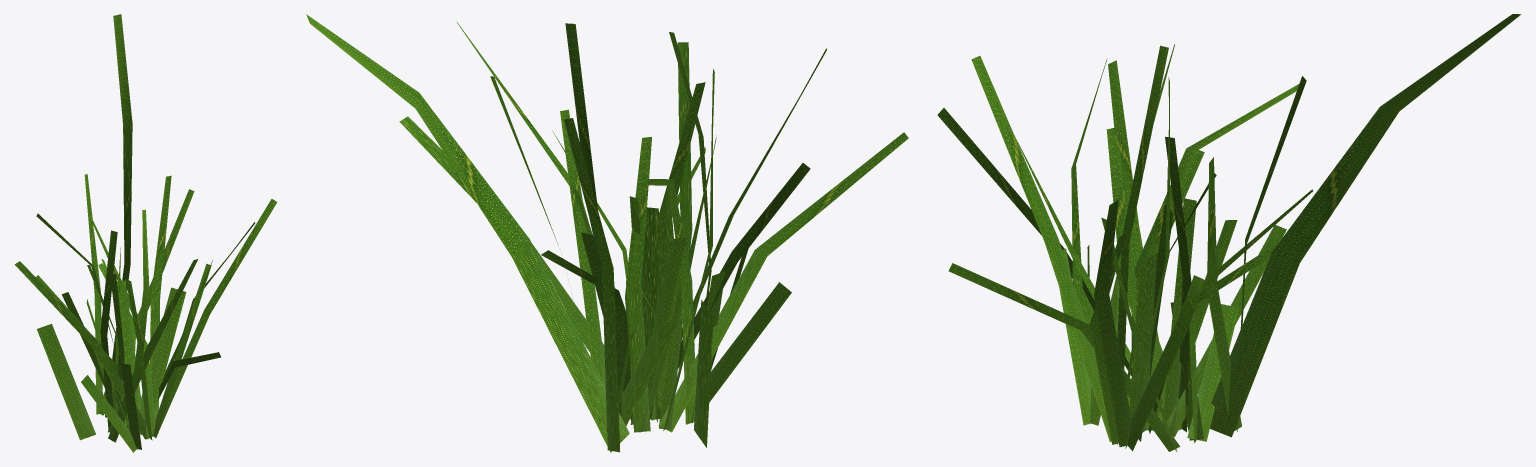
Rendered from plant_35.fbx.
3 renders of one model, left to right at view 1: azimuth 30°, elevation 25°; view 2: azimuth 150°, elevation 25°; view 3: azimuth 270°, elevation 25°, orthographic. The views are drawn at different scales.
Visible parts, largest first — view 1: grassOrnament2Main; view 2: grassOrnament2Main; view 3: grassOrnament2Main.
Boxes of the visible parts, x1,y1,x2,y2 form: grassOrnament2Main: [14, 14, 277, 452]; grassOrnament2Main: [306, 14, 908, 452]; grassOrnament2Main: [937, 14, 1520, 452].
Bounding box in the file's own units: 1.91 × 2.3 × 2.42.
